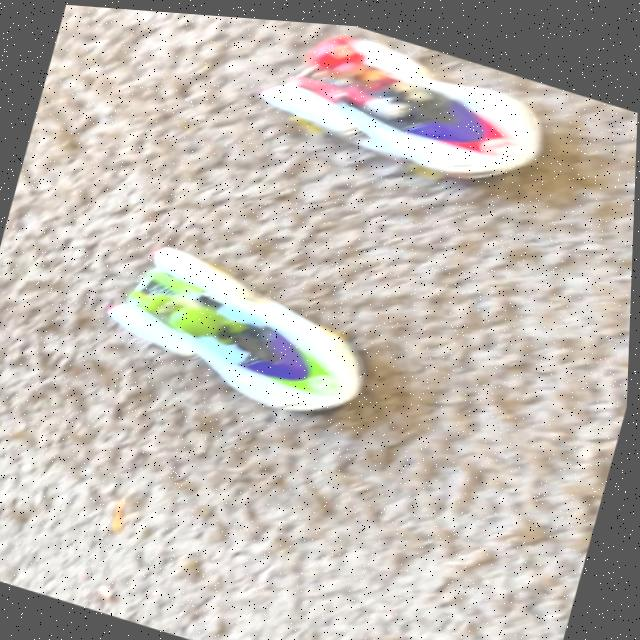mario: (219, 13, 588, 222)
yoshi: (60, 206, 413, 454)
